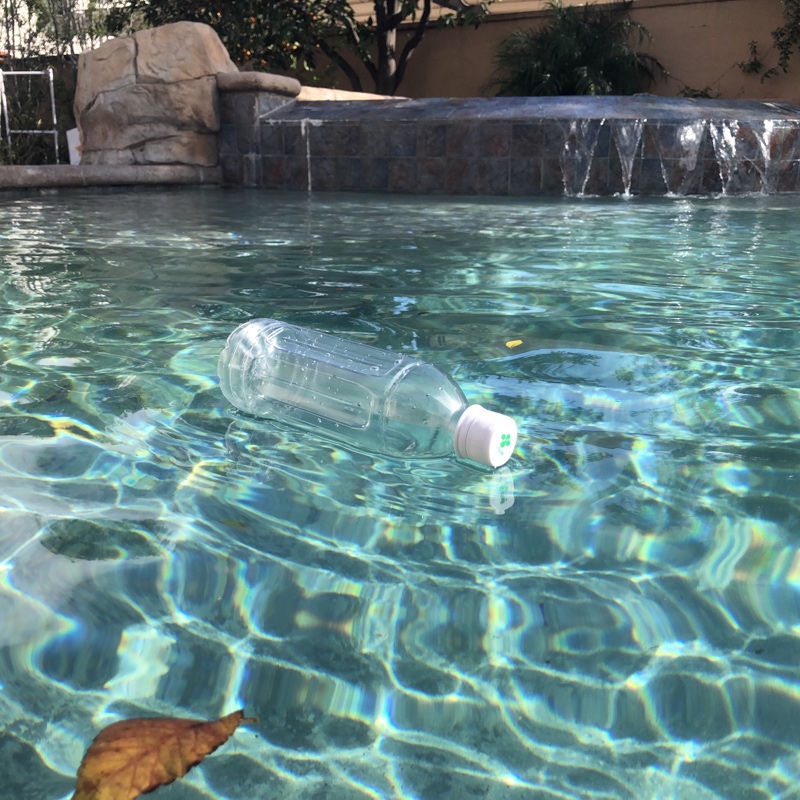Plastic Bottle: (213, 311, 522, 483)
